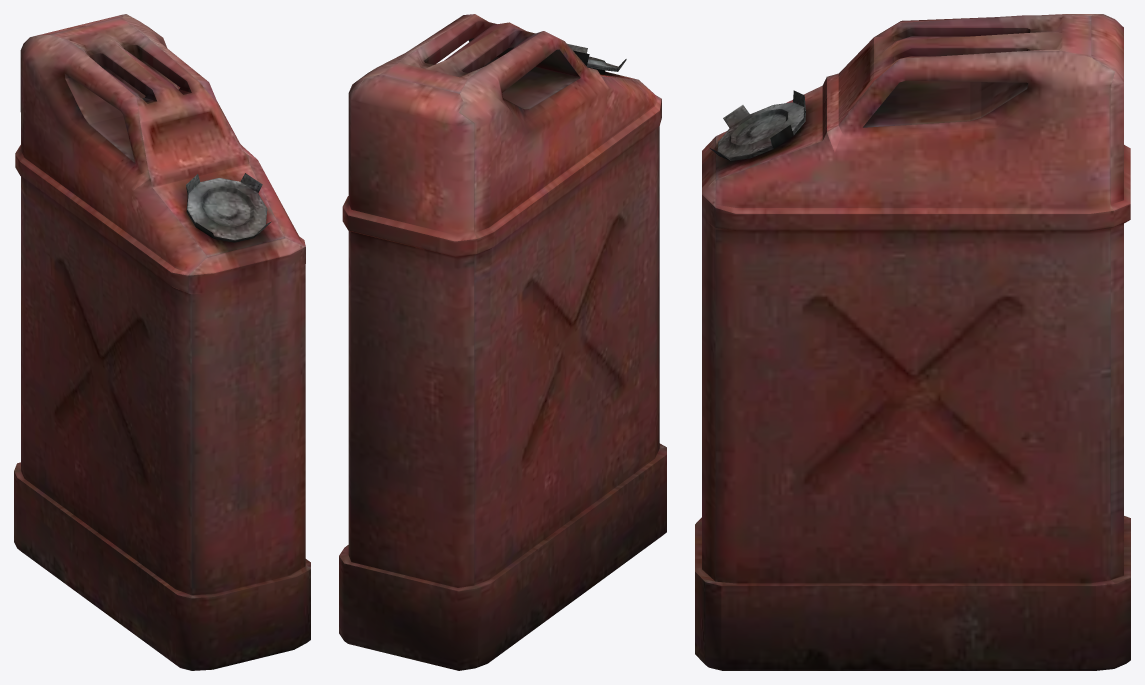
File: gascan001a.glb
3 views of the same model, side by side, from view 1: azimuth 30°, elevation 25°; view 2: azimuth 150°, elevation 25°; view 3: azimuth 270°, elevation 25° (orthographic). The views are drawn at different scales.
Visible parts, largest first — view 1: 0_phys_objects02a; view 2: 0_phys_objects02a; view 3: 0_phys_objects02a.
Part boxes in pixels (bbox=[...]): 0_phys_objects02a: bbox=[14, 14, 310, 670]; 0_phys_objects02a: bbox=[339, 14, 666, 670]; 0_phys_objects02a: bbox=[695, 14, 1130, 670].
Bounding box in the file's own units: 0.2054 × 0.756 × 0.4964.
1 material, 1 textured.
